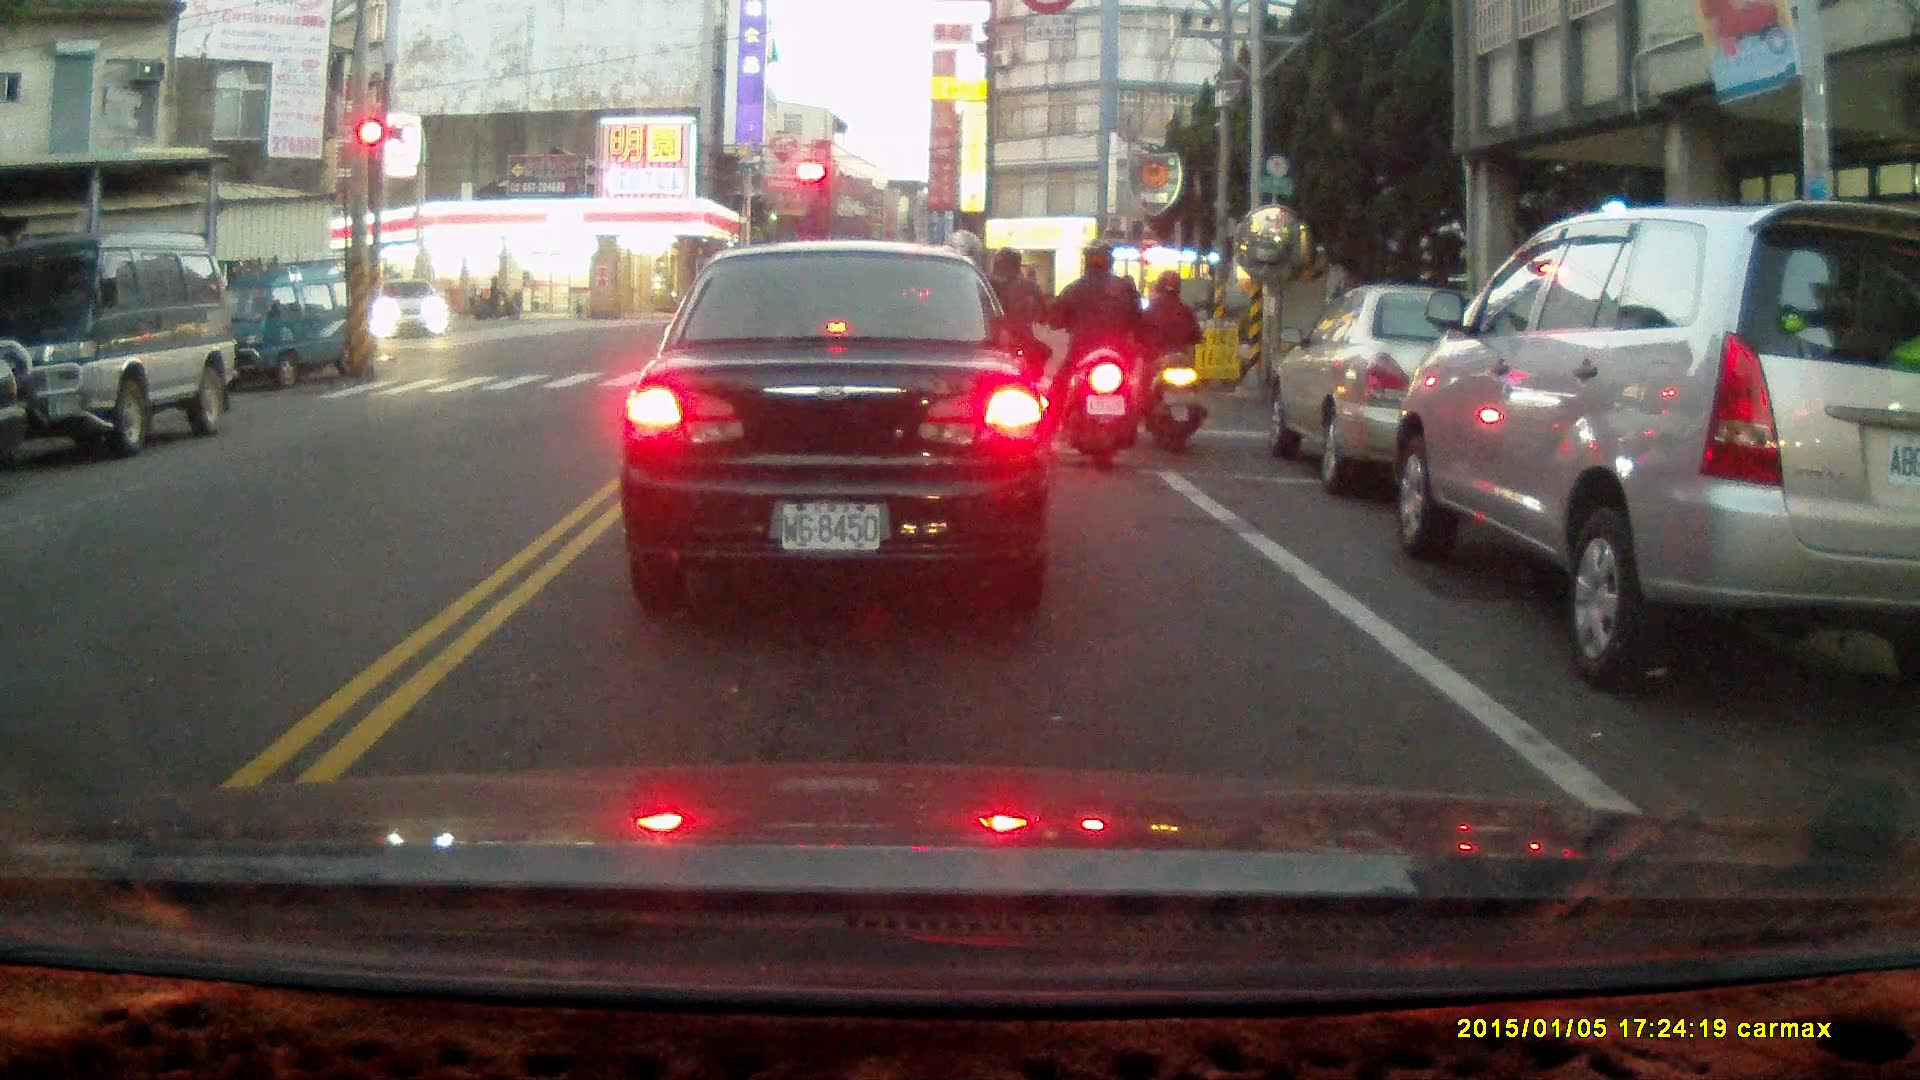rider: (1048, 242, 1141, 468), (960, 241, 1056, 430), (1135, 270, 1205, 451), (471, 278, 514, 317)
vehicle: (1390, 207, 1914, 701), (617, 243, 1061, 606), (1268, 285, 1566, 495), (1, 234, 239, 458), (192, 257, 377, 393), (372, 277, 451, 343)
